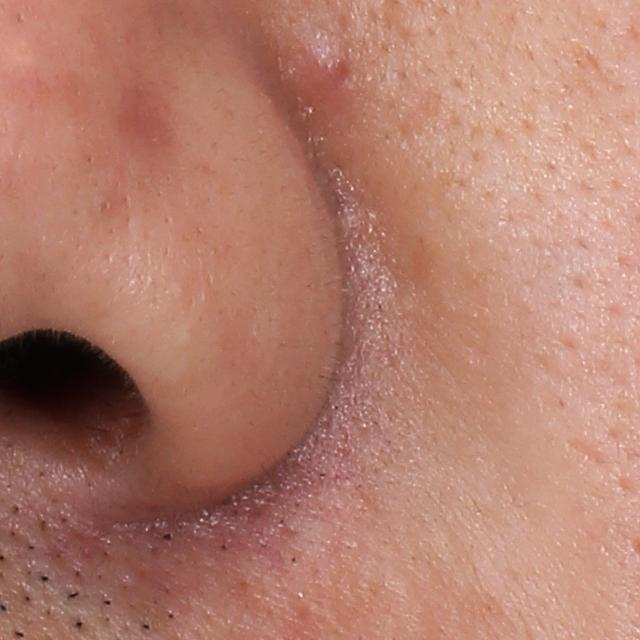atrophic_scar: (557, 434, 611, 469)
